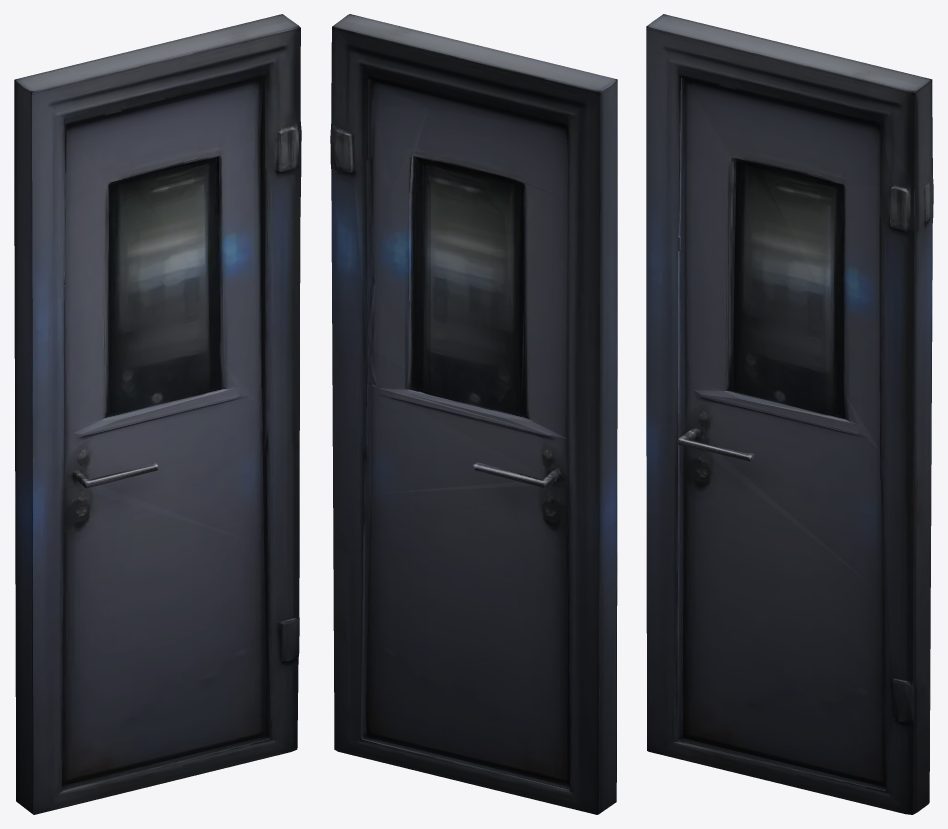
Rendered from metal-door5.glb.
The picture shows the model from 3 angles, left to right: view 1: azimuth 30°, elevation 25°; view 2: azimuth 150°, elevation 25°; view 3: azimuth 330°, elevation 25°; orthographic projection.
Visible parts, largest first — view 1: geometry_0; view 2: geometry_0; view 3: geometry_0.
Boxes of the visible parts, x1=… form: geometry_0: x1=14, y1=14, x2=301, y2=814; geometry_0: x1=330, y1=14, x2=617, y2=814; geometry_0: x1=646, y1=14, x2=933, y2=814.
Size of the model in its own units: 0.3909 by 1 by 0.1016.
1 material, 1 textured.
